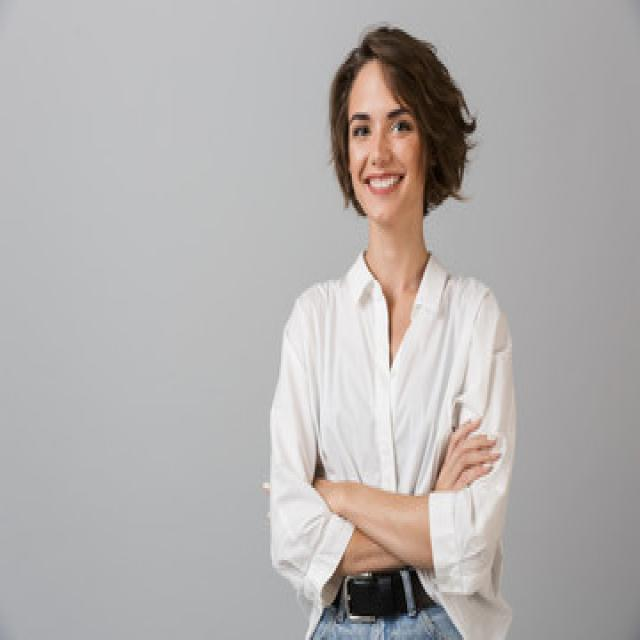person-without-mask: (228, 31, 535, 640)
